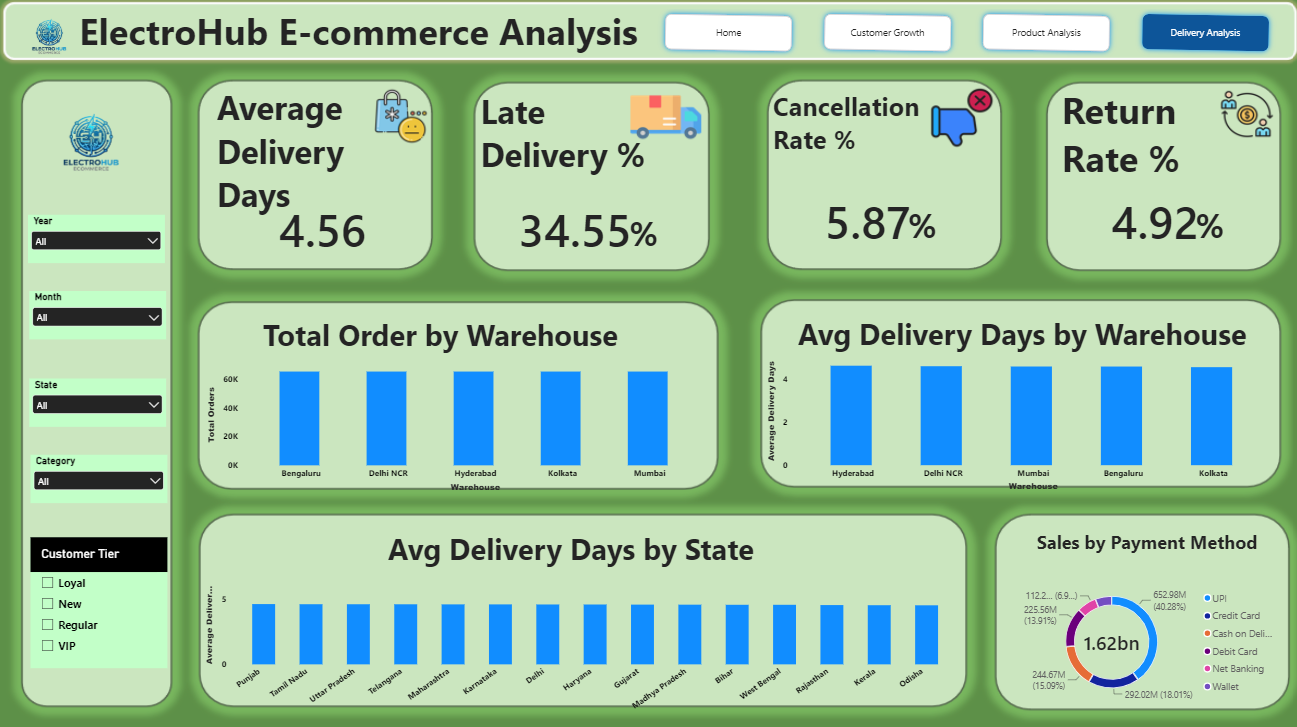

Layout of this report page (visuals, bound fields, positions):
{"tool":"powerbi","page":{"name":"Delivery Analysis","canvas":[1920,1080],"ordinal":3},"visuals":[{"type":"image","box":[0,0,150.9,119.6],"z":0,"group":"g1"},{"type":"pageNavigator","box":[962.6,18.4,929.5,71.8],"z":0},{"type":"image","box":[14.7,136.2,244.5,160.1],"z":0,"group":"g2"},{"type":"group","id":"g1","title":"Group 2","box":[0,0,972.3,119.6],"z":1000},{"type":"textbox","box":[119.6,14.7,852.7,95.2],"z":1000,"group":"g1"},{"type":"group","id":"g2","title":"Group 2","box":[14.7,136.2,244.5,155.8],"z":1000,"group":"g3"},{"type":"slicer","title":"Year","fields":{"Values":["orders.Order_Date.Variation.Date Hierarchy.Year"]},"box":[43.3,322.5,201.3,71.4],"z":2000},{"type":"slicer","title":"Year","fields":{"Values":["customers.State"]},"box":[45.4,562.7,201.3,71.4],"z":3000},{"type":"slicer","title":"Year","fields":{"Values":["orders.Order_Date.Variation.Date Hierarchy.Month"]},"box":[45.4,435,201.3,71.4],"z":4000},{"type":"slicer","title":"Year","fields":{"Values":["products.Category"]},"box":[47.6,675.2,201.3,71.4],"z":5000},{"type":"group","id":"g3","title":"Group 1","box":[14.7,136.2,244.8,156.4],"z":6000},{"type":"clusteredColumnChart","fields":{"Y":["order_items.Total Orders"],"Category":["delivery.Warehouse"]},"box":[292.2,519.4,766.1,227.2],"z":7000},{"type":"clusteredColumnChart","fields":{"Category":["delivery.Warehouse"],"Y":["delivery.Average Delivery Days"]},"box":[1116.7,508.6,774.8,238.1],"z":8000},{"type":"clusteredColumnChart","fields":{"Y":["delivery.Average Delivery Days"],"Category":["customers.State"]},"box":[290,844,1138.3,235.9],"z":9000},{"type":"donutChart","fields":{"Y":["order_items.Total Sales"],"Category":["orders.Payment_Method"]},"box":[1488.9,844,417.7,214.3],"z":10000},{"type":"cardVisual","fields":{"Data":["delivery.Average Delivery Days"]},"box":[397.5,287.1,179.6,110.4],"z":11000},{"type":"cardVisual","fields":{"Data":["delivery.Cancellation Rate %"]},"box":[1201.8,276.1,184,110.4],"z":12000},{"type":"cardVisual","fields":{"Data":["delivery.Late Delivery %"]},"box":[750.9,266.9,209.8,149.1],"z":13000},{"type":"cardVisual","fields":{"Data":["delivery.Return Rate %"]},"box":[1623.3,266.9,205.6,125.5],"z":14000},{"type":"listSlicer","title":"Customer Tier","fields":{"Values":["customers.Customer_Tier"]},"box":[47.6,796.4,201.3,192.6],"z":15000},{"type":"textbox","box":[47.9,154.6,200.6,123.3],"z":16000},{"type":"textbox","box":[710.4,136.2,285.3,138],"z":17000},{"type":"textbox","box":[322.1,130.7,253.2,199.1],"z":18000},{"type":"textbox","box":[1141.1,136.2,244.8,154.6],"z":19000},{"type":"textbox","box":[1566.3,130.7,261.9,145],"z":20000},{"type":"textbox","box":[389.5,469.6,582.2,75.7],"z":21000},{"type":"textbox","box":[1177.9,467.5,729.3,71.4],"z":22000},{"type":"textbox","box":[573.5,783.4,811.6,80.1],"z":23000},{"type":"textbox","box":[1530,785.6,361.4,58.4],"z":24000},{"type":"textbox","box":[929.5,316.6,62.6,69.9],"z":25000},{"type":"textbox","box":[1339.9,303.7,46,77.3],"z":26000},{"type":"textbox","box":[1763.2,303.7,93.9,68.1],"z":27000}]}

Visuals, with their boxes in screenshot pixels (x1, y1, x2, y2), scaled from the page's 1920x1080 canvas onto the 1297x727 screenshot:
image: [x1=0, y1=0, x2=102, y2=81]
pageNavigator: [x1=650, y1=12, x2=1278, y2=61]
image: [x1=10, y1=92, x2=175, y2=199]
"Group 2" group: [x1=0, y1=0, x2=657, y2=81]
textbox: [x1=81, y1=10, x2=657, y2=74]
"Group 2" group: [x1=10, y1=92, x2=175, y2=197]
"Year" slicer: [x1=29, y1=217, x2=165, y2=265]
"Year" slicer: [x1=31, y1=379, x2=167, y2=427]
"Year" slicer: [x1=31, y1=293, x2=167, y2=341]
"Year" slicer: [x1=32, y1=455, x2=168, y2=503]
"Group 1" group: [x1=10, y1=92, x2=175, y2=197]
clusteredColumnChart - order_items.Total Orders x delivery.Warehouse: [x1=197, y1=350, x2=715, y2=503]
clusteredColumnChart - delivery.Warehouse x delivery.Average Delivery Days: [x1=754, y1=342, x2=1278, y2=503]
clusteredColumnChart - delivery.Average Delivery Days x customers.State: [x1=196, y1=568, x2=965, y2=726]
donutChart - order_items.Total Sales x orders.Payment_Method: [x1=1006, y1=568, x2=1288, y2=712]
cardVisual - delivery.Average Delivery Days: [x1=269, y1=193, x2=390, y2=268]
cardVisual - delivery.Cancellation Rate %: [x1=812, y1=186, x2=936, y2=260]
cardVisual - delivery.Late Delivery %: [x1=507, y1=180, x2=649, y2=280]
cardVisual - delivery.Return Rate %: [x1=1097, y1=180, x2=1235, y2=264]
"Customer Tier" listSlicer: [x1=32, y1=536, x2=168, y2=666]
textbox: [x1=32, y1=104, x2=168, y2=187]
textbox: [x1=480, y1=92, x2=673, y2=185]
textbox: [x1=218, y1=88, x2=389, y2=222]
textbox: [x1=771, y1=92, x2=936, y2=196]
textbox: [x1=1058, y1=88, x2=1235, y2=186]
textbox: [x1=263, y1=316, x2=656, y2=367]
textbox: [x1=796, y1=315, x2=1288, y2=363]
textbox: [x1=387, y1=527, x2=936, y2=581]
textbox: [x1=1034, y1=529, x2=1278, y2=568]
textbox: [x1=628, y1=213, x2=670, y2=260]
textbox: [x1=905, y1=204, x2=936, y2=256]
textbox: [x1=1191, y1=204, x2=1255, y2=250]
